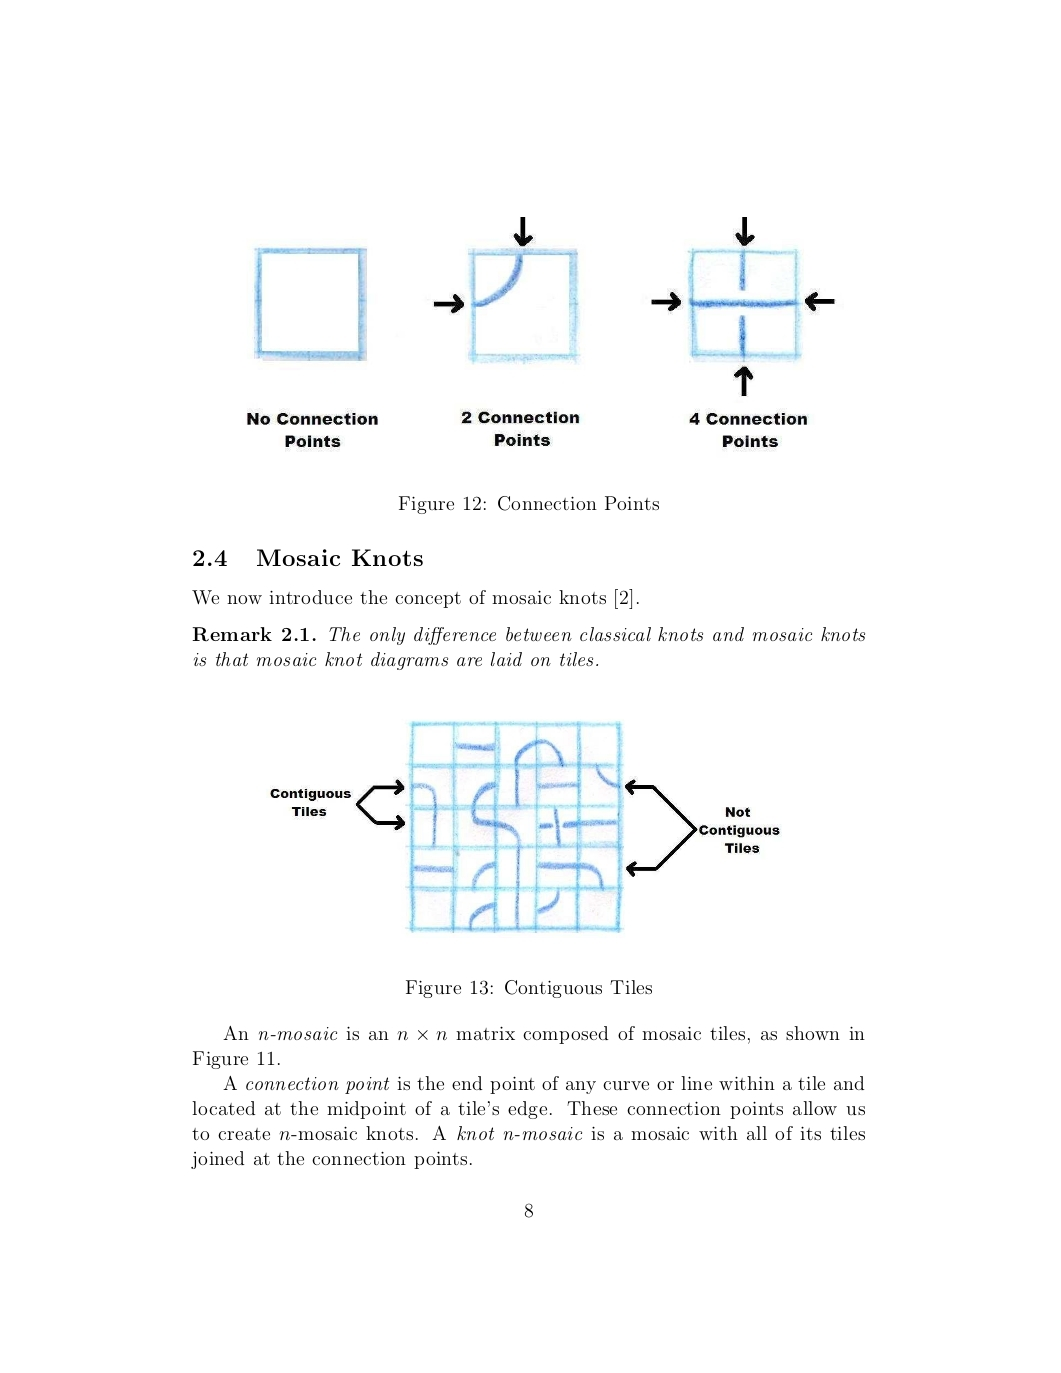figure: (267, 720, 780, 933), (651, 215, 836, 397), (432, 215, 580, 366), (254, 246, 366, 361)
